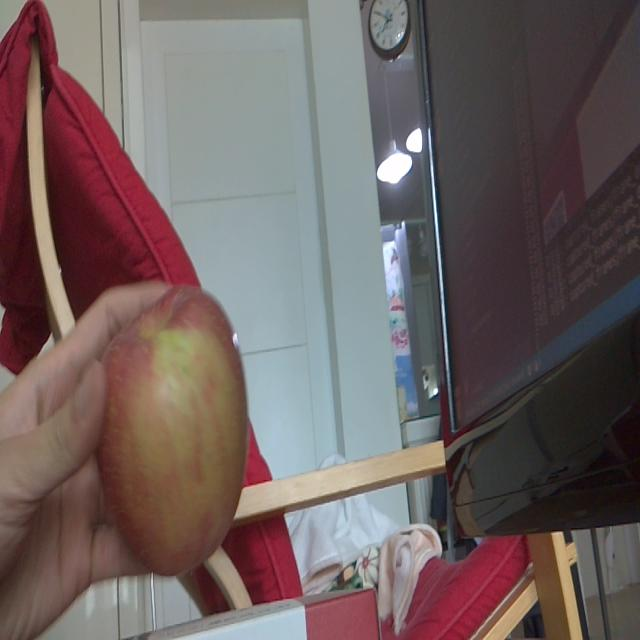apple: (97, 283, 252, 573)
